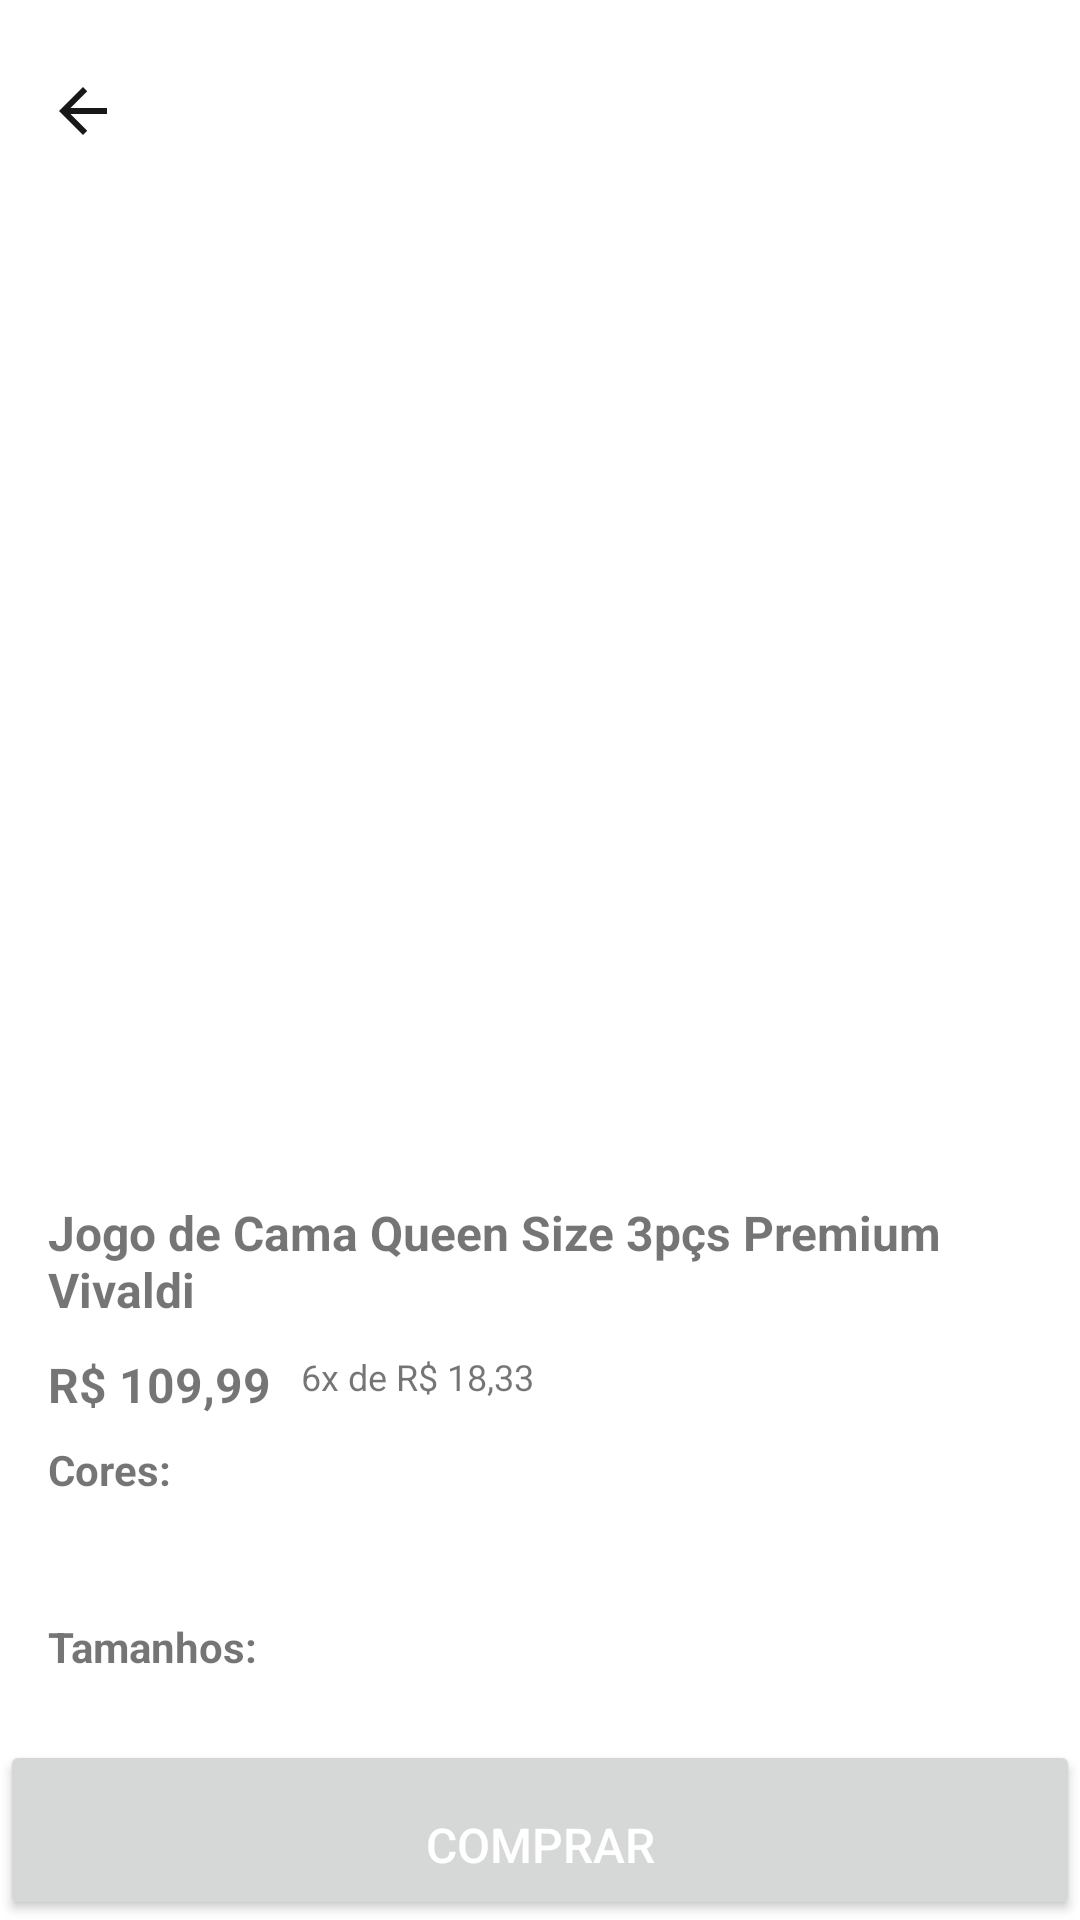

Where icons sit on this 1080 x 1920 app screen, as bbox=(x1, y1, x2, y2):
voltar preto: bbox=(59, 87, 107, 135)
